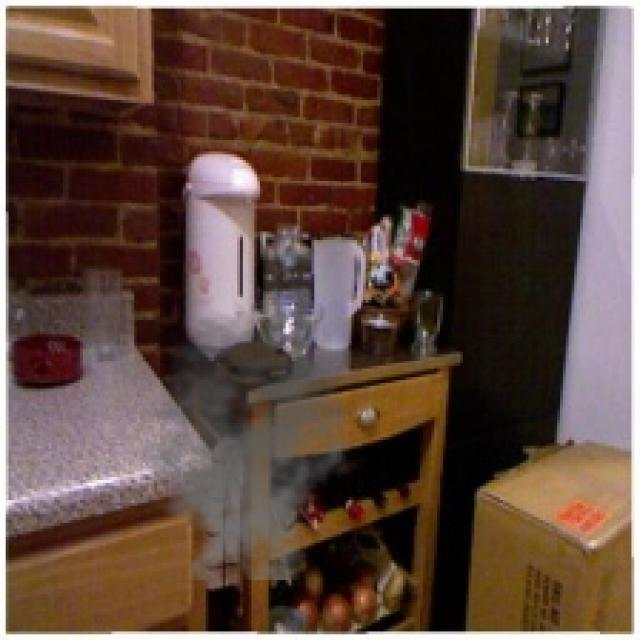Smoke: (123, 311, 360, 580)
